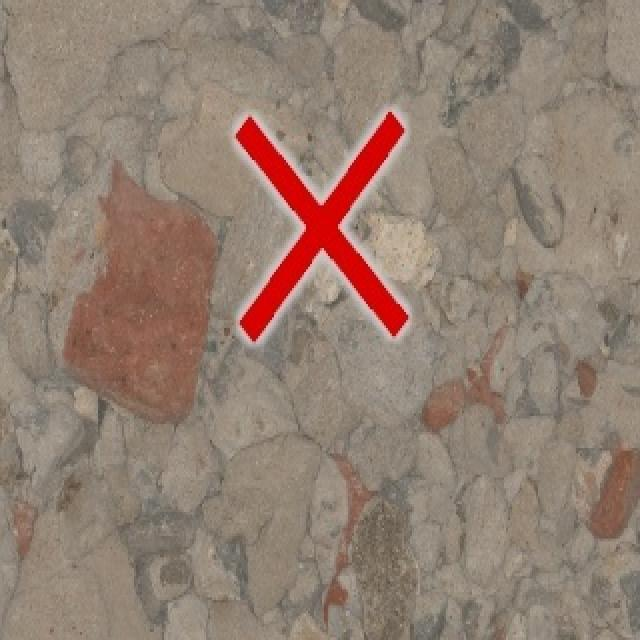x_marker: (235, 111, 407, 340)
